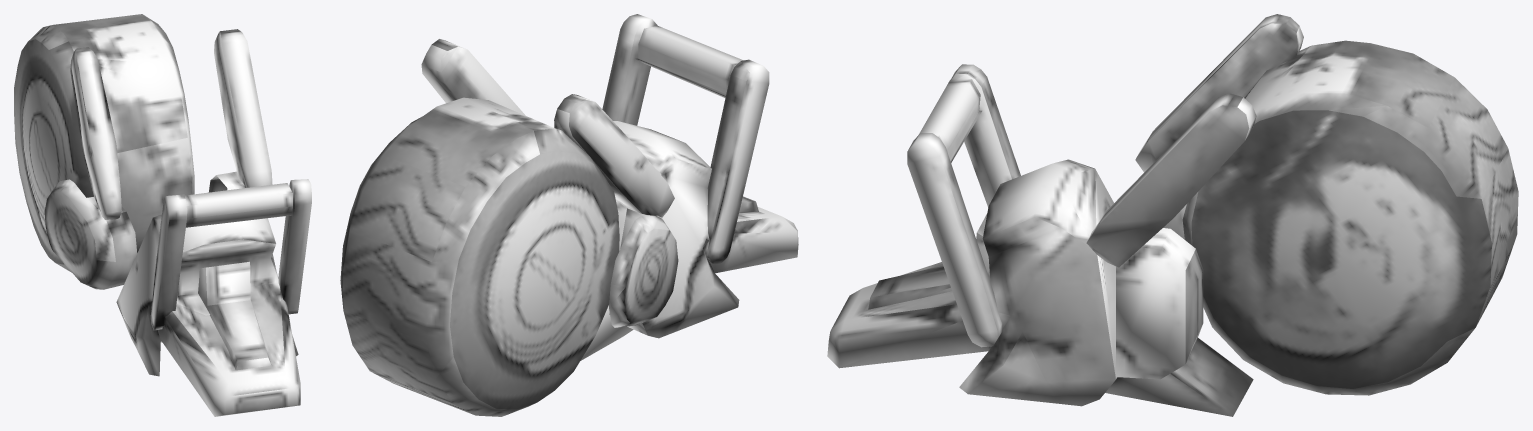
File: fr_foot.glb
The picture shows the model from 3 angles, left to right: view 1: azimuth 30°, elevation 25°; view 2: azimuth 150°, elevation 25°; view 3: azimuth 270°, elevation 25°; orthographic projection. The views are drawn at different scales.
Visible parts, largest first — view 1: fr_foot; view 2: fr_foot; view 3: fr_foot.
Boxes of the visible parts, x1,y1,x2,y2 form: fr_foot: (14, 14, 311, 416); fr_foot: (340, 14, 798, 416); fr_foot: (827, 14, 1518, 416).
Bounding box in the file's own units: 0.4856 × 0.6483 × 1.21.
3 materials, 3 textured.
